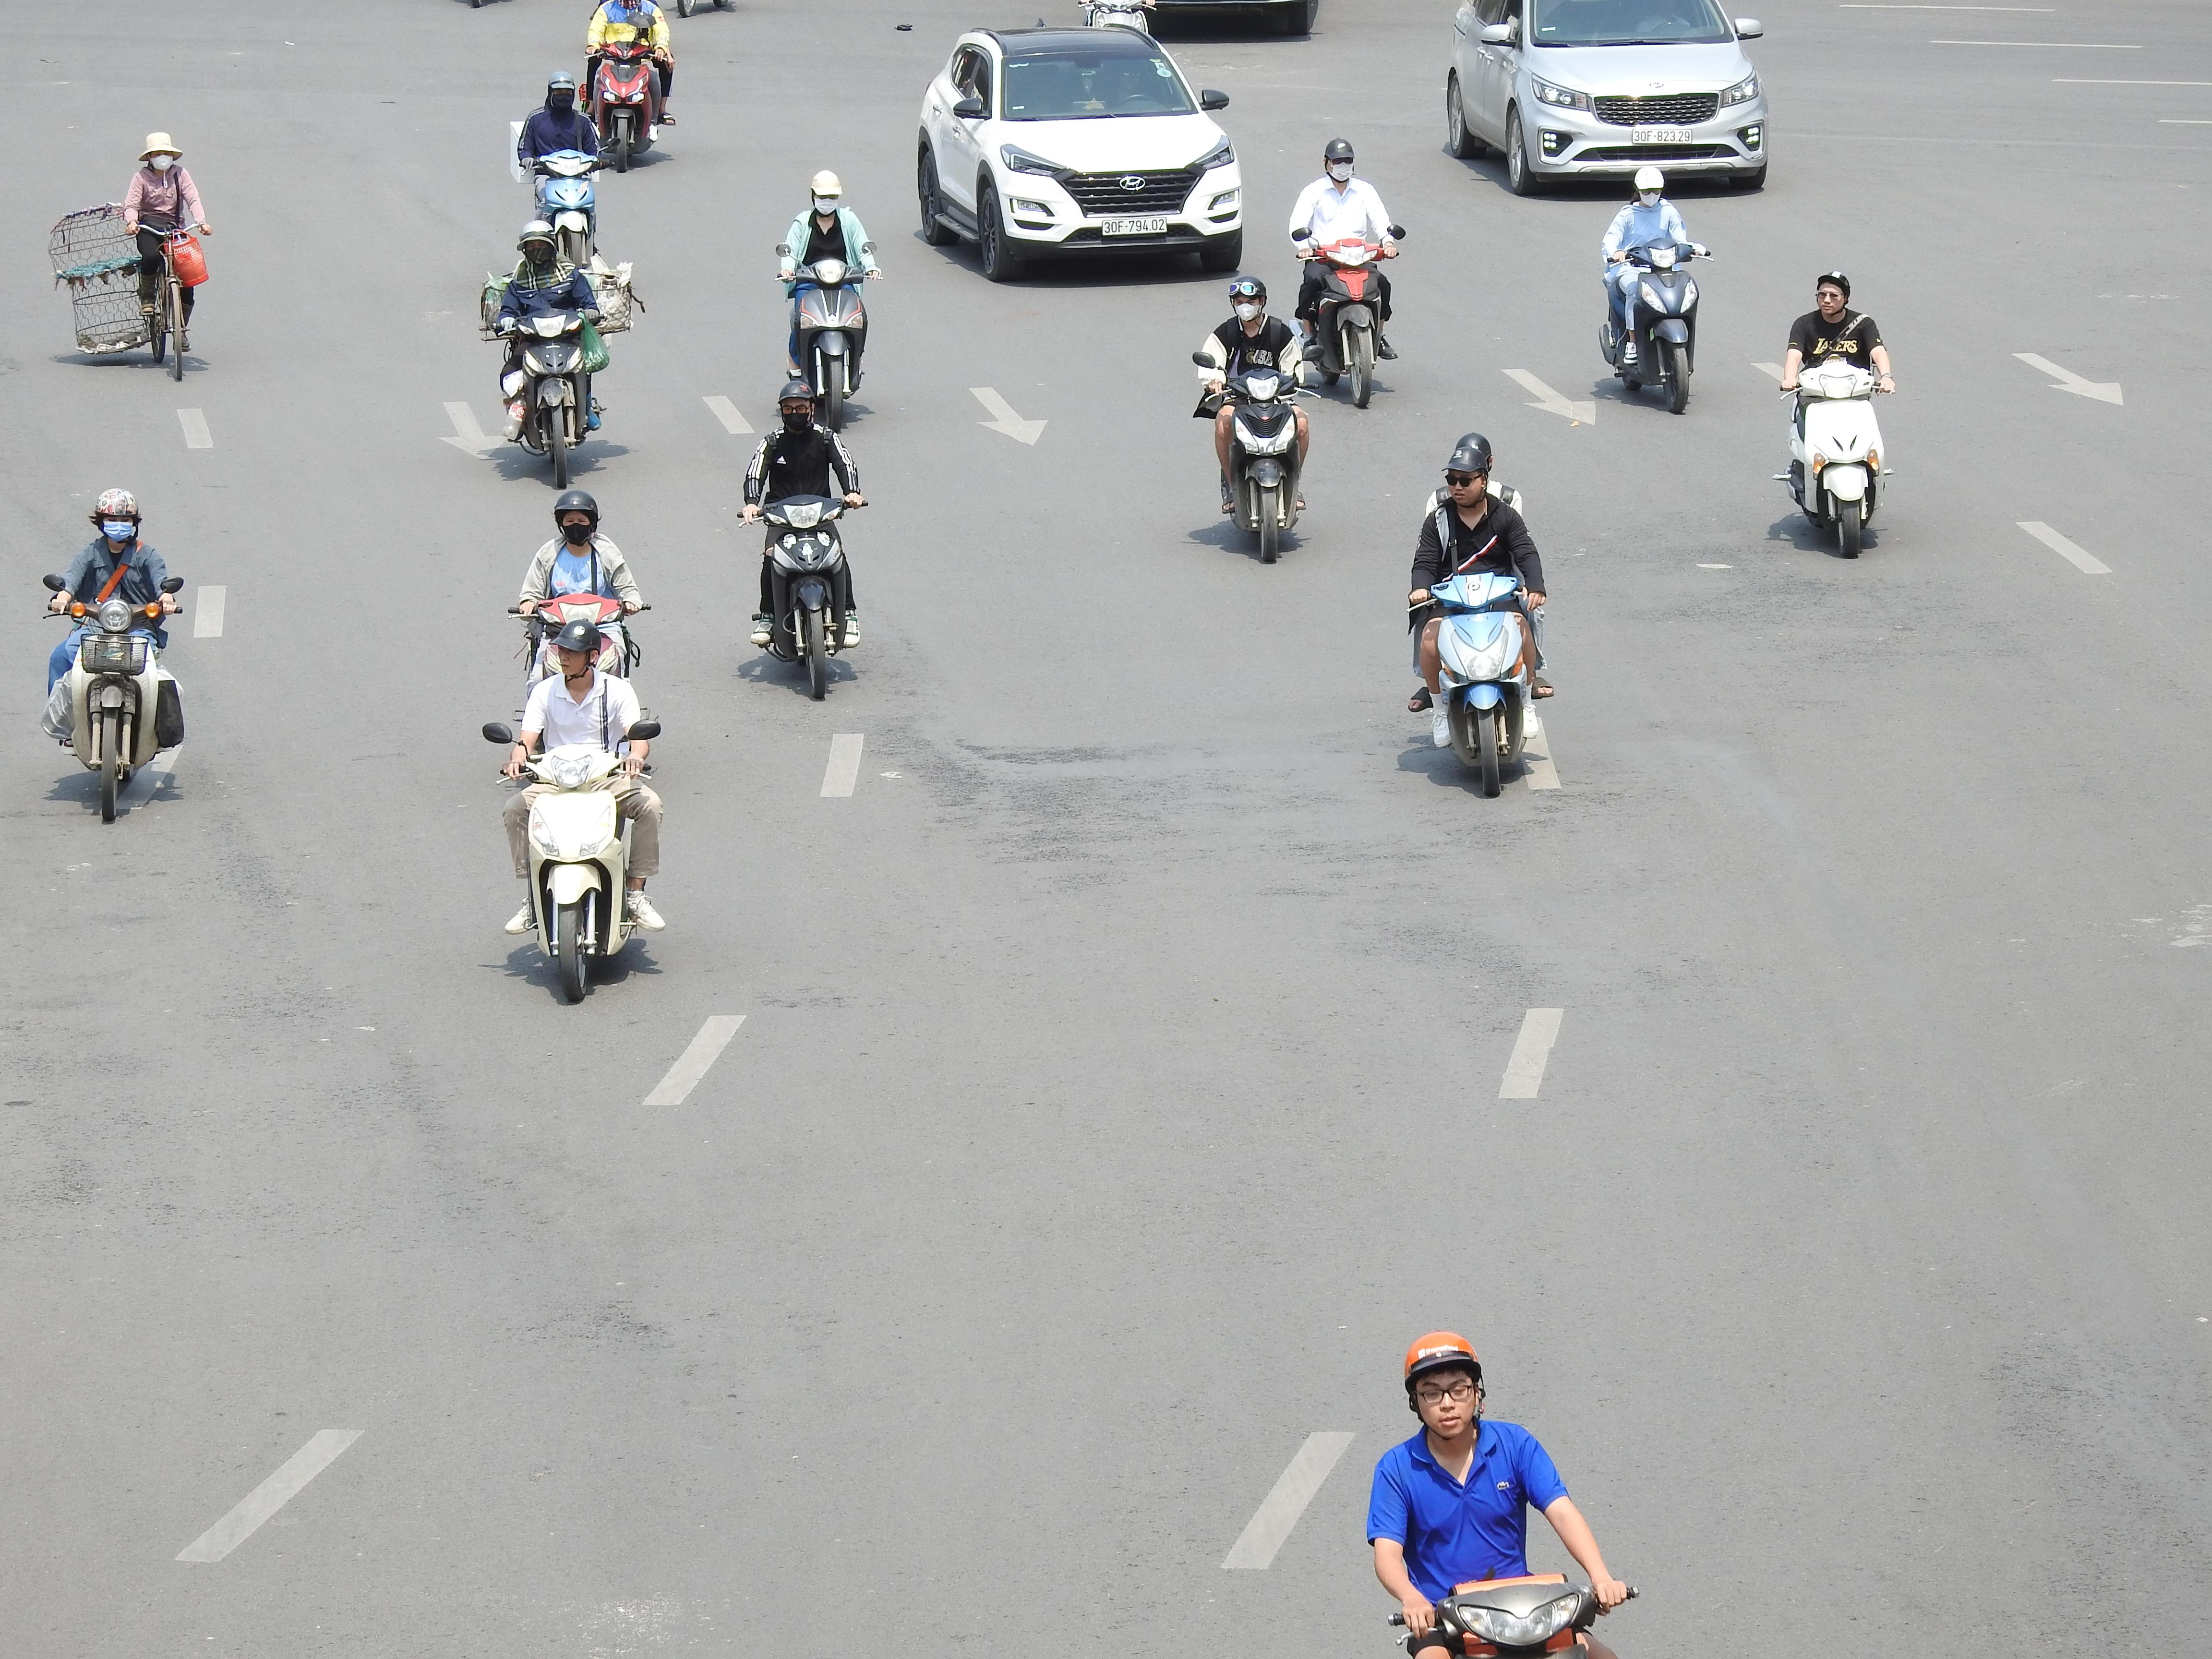BSD: (1101, 216, 1167, 235), (1632, 129, 1693, 145)
car: (913, 21, 1245, 282), (1442, 0, 1770, 197)
motorbike: (1366, 1328, 1637, 1659), (491, 617, 664, 1006), (1407, 432, 1550, 800), (44, 486, 185, 826), (740, 376, 864, 702), (51, 131, 209, 378), (1197, 274, 1313, 563), (1778, 270, 1893, 561), (486, 220, 610, 488), (1289, 138, 1404, 408), (1599, 166, 1710, 416), (510, 488, 644, 694), (779, 171, 878, 427), (110, 131, 209, 382), (516, 71, 603, 267), (583, 0, 674, 169)
